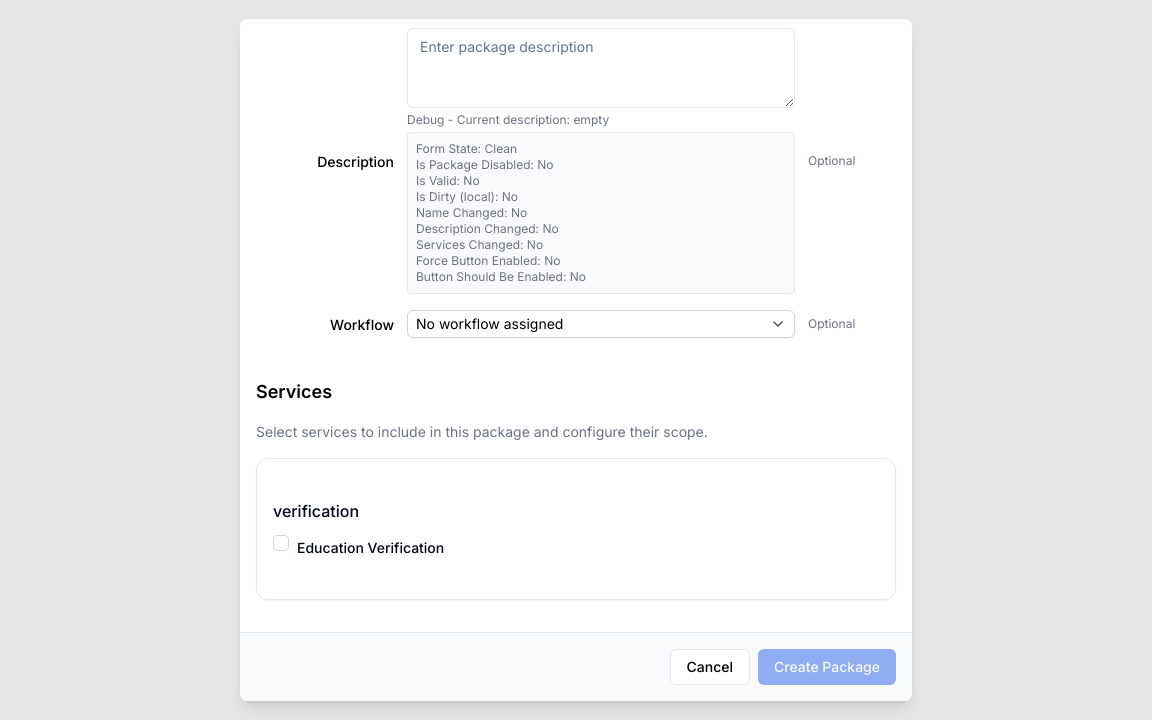
Test case: Education Verification Infinite Loop - Full Integration › REGRESSION TEST: Full component interaction › should NOT cause infinite loop when Education verification checkbox is clicked
This screenshot has width=1152, height=720.
(page scrolled)
Expected: the text "Education Verification" is shown, [297,539,444,556]
// This is the critical action that triggers the bug
Click the checkbox named "Education Verification". click: (281, 543)
box: [273,535,289,551]
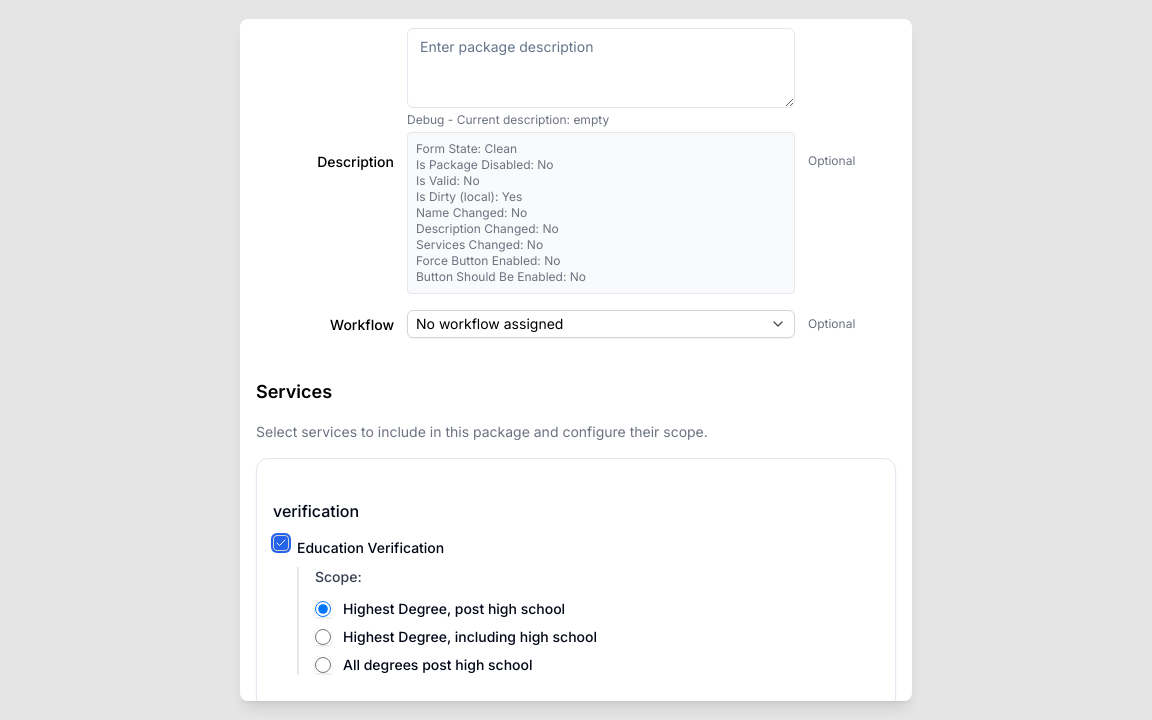
Expected: the text "Highest Degree, post high school" is shown, [343,599,565,619]
